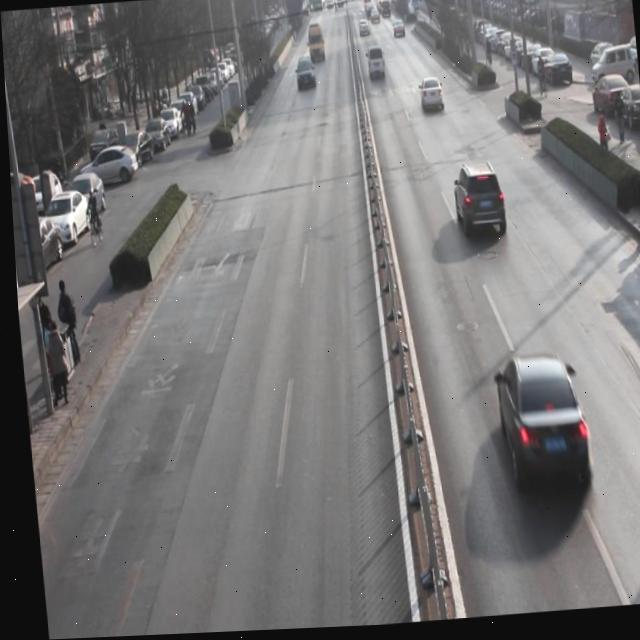car: (487, 351, 588, 501), (448, 162, 505, 249), (416, 76, 446, 116), (293, 56, 317, 94)
truck: (364, 43, 387, 85), (305, 25, 327, 58)
